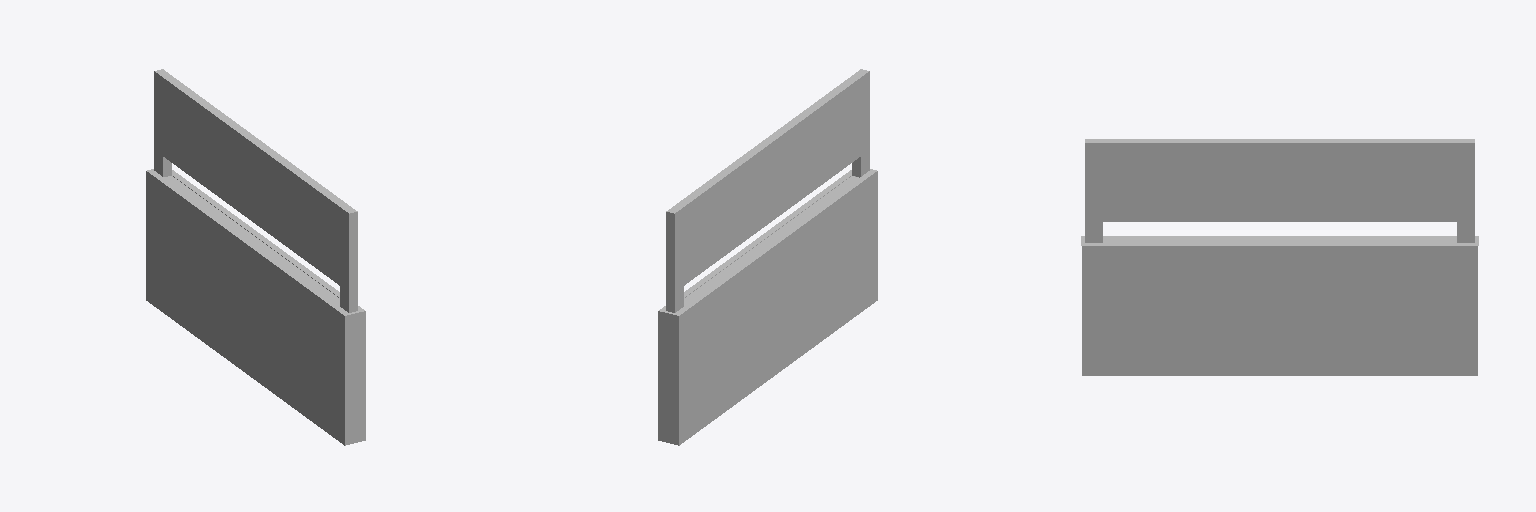
Rendered from Mural.obj.
3 renders of one model, left to right at view 1: azimuth 30°, elevation 25°; view 2: azimuth 150°, elevation 25°; view 3: azimuth 270°, elevation 25°, orthographic.
Parts seen in each view (by area): view 1: Plane; view 2: Plane; view 3: Plane.
Boxes of the visible parts, <box> form: Plane: <box>146,69,365,445</box>; Plane: <box>658,69,877,445</box>; Plane: <box>1081,139,1478,375</box>.
Size of the model in its own units: 0.1211 by 1.28 by 2.